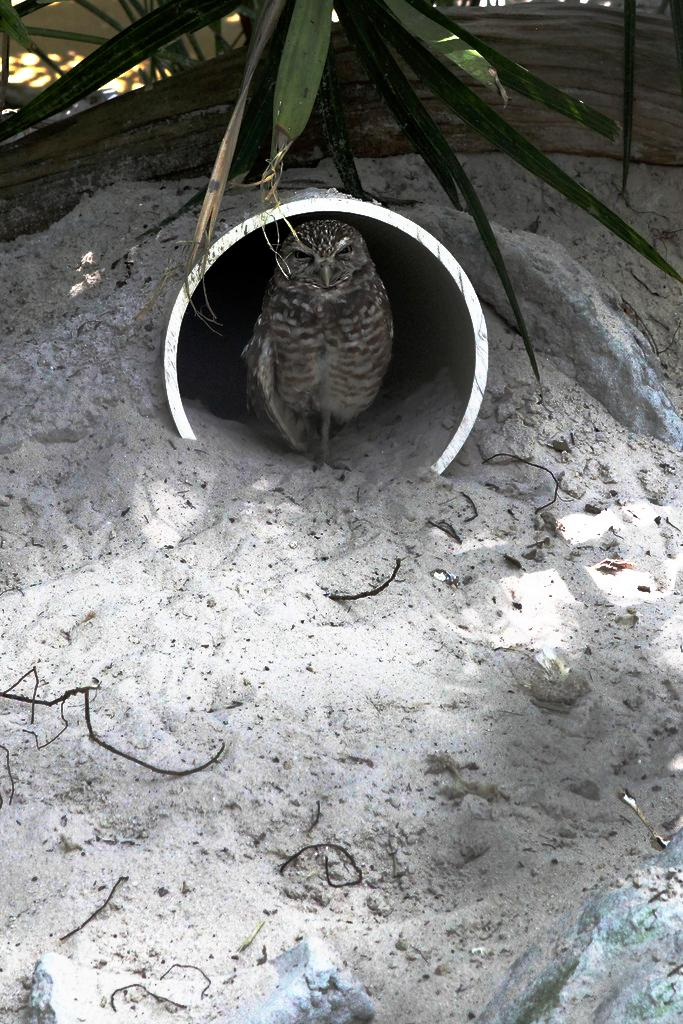Owl: (233, 222, 397, 468)
